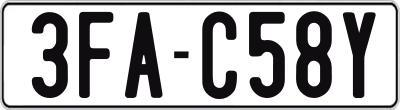3: (30, 10, 66, 97)
5: (246, 10, 282, 100)
8: (295, 11, 337, 98)
A: (122, 12, 159, 98)
C: (201, 12, 238, 101)
F: (79, 9, 117, 97)
Y: (343, 10, 378, 99)
